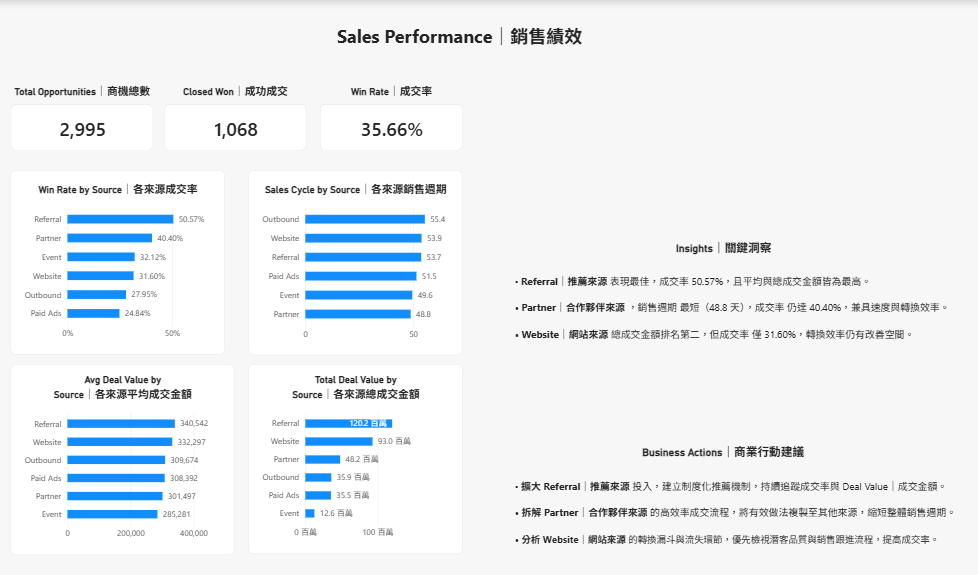

The dashboard page shown, as its layout file describes it:
{"tool":"powerbi","page":{"name":"Sales Performance｜銷售績效","canvas":[1920,1080],"ordinal":1},"visuals":[{"type":"cardVisual","title":"Total Opportunities｜商機總數","fields":{"Data":["saas_revops opportunities.Total Opportunities Display"]},"box":[21.4,121.4,212.9,101.4],"z":0},{"type":"cardVisual","title":"Closed Won｜成功成交","fields":{"Data":["saas_revops opportunities.Closed Won Display"]},"box":[250,121.4,211.4,101.4],"z":1000},{"type":"cardVisual","title":"Win Rate｜成交率","fields":{"Data":["saas_revops opportunities.Win Rate"]},"box":[481.4,121.4,212.9,101.4],"z":2000},{"type":"clusteredBarChart","title":"Win Rate by Source｜各來源成交率","fields":{"Category":["saas_revops leads.lead_source"],"Y":["saas_revops opportunities.Win Rate"]},"box":[22,252,318,274],"z":3000},{"type":"clusteredBarChart","title":"Sales Cycle by Source｜各來源銷售週期","fields":{"Category":["saas_revops leads.lead_source"],"Y":["saas_revops opportunities.Avg Sales Cycle"]},"box":[376,252,317.5,275],"z":4000},{"type":"clusteredBarChart","title":"Avg Deal Value by Source｜各來源平均成交金額","fields":{"Category":["saas_revops leads.lead_source"],"Y":["saas_revops opportunities.Avg Deal Value"]},"box":[22.2,540,332.2,283.3],"z":5000},{"type":"clusteredBarChart","title":"Total Deal Value by Source｜各來源總成交金額","fields":{"Category":["saas_revops leads.lead_source"],"Y":["saas_revops opportunities.Total Deal Value"]},"box":[376,540,318,282],"z":6000},{"type":"textbox","title":"Insights｜關鍵洞察","box":[727.5,352.5,705,187.5],"z":7000},{"type":"textbox","title":"Business Actions｜商業行動建議","box":[729,658.1,703.6,162.7],"z":8000},{"type":"textbox","box":[458,32,464,112],"z":9000}]}

Visuals, with their boxes on the page's 1920x1080 design canvas (x1, y1, x2, y2). These are canvas units, not pixel positions in the 978x575 screenshot, which may show the page scaled, cropped or inside an application window:
"Total Opportunities｜商機總數" cardVisual: 21,121,234,223
"Closed Won｜成功成交" cardVisual: 250,121,461,223
"Win Rate｜成交率" cardVisual: 481,121,694,223
"Win Rate by Source｜各來源成交率" clusteredBarChart: 22,252,340,526
"Sales Cycle by Source｜各來源銷售週期" clusteredBarChart: 376,252,694,527
"Avg Deal Value by Source｜各來源平均成交金額" clusteredBarChart: 22,540,354,823
"Total Deal Value by Source｜各來源總成交金額" clusteredBarChart: 376,540,694,822
"Insights｜關鍵洞察" textbox: 728,352,1432,540
"Business Actions｜商業行動建議" textbox: 729,658,1433,821
textbox: 458,32,922,144
